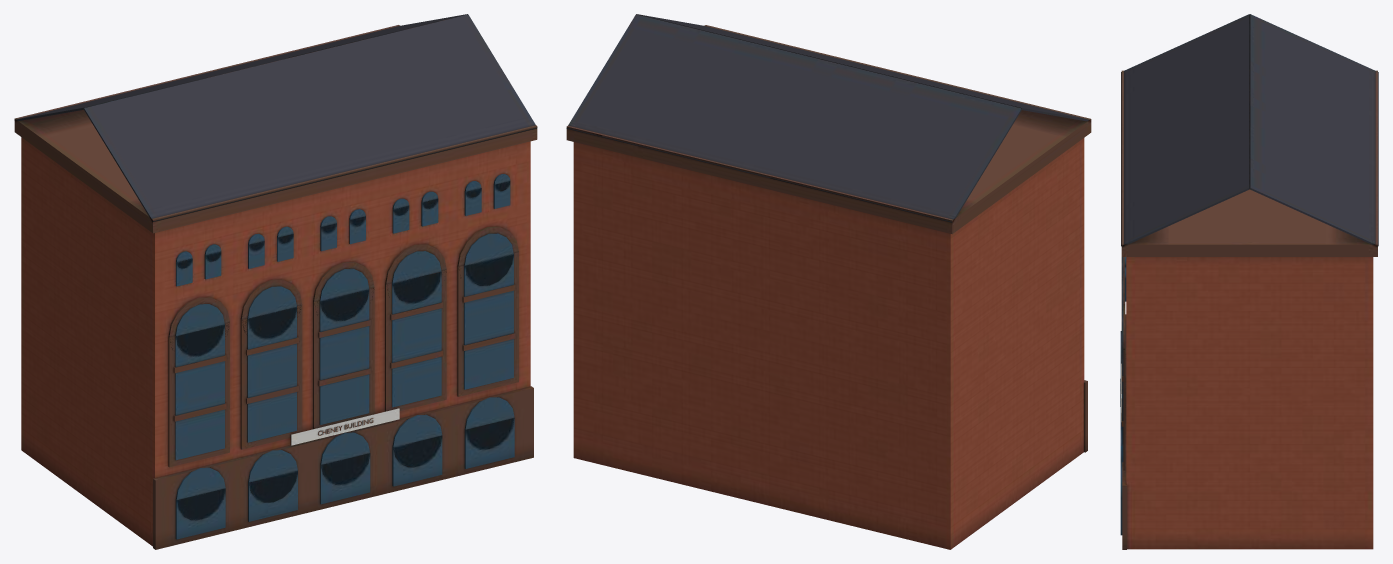
File: cheney_building.glb
3 views of the same model, side by side, from view 1: azimuth 30°, elevation 25°; view 2: azimuth 150°, elevation 25°; view 3: azimuth 270°, elevation 25° (orthographic). The views are drawn at different scales.
Visible parts, largest first — view 1: cheney_building; view 2: cheney_building; view 3: cheney_building.
Part boxes in pixels (x1,y1,x2,y2): cheney_building: (14, 14, 537, 549); cheney_building: (566, 14, 1091, 549); cheney_building: (1120, 14, 1378, 549).
Bounding box in the file's own units: 26.6 × 25.95 × 16.7.
Materials: 1 (1 with a texture image).
